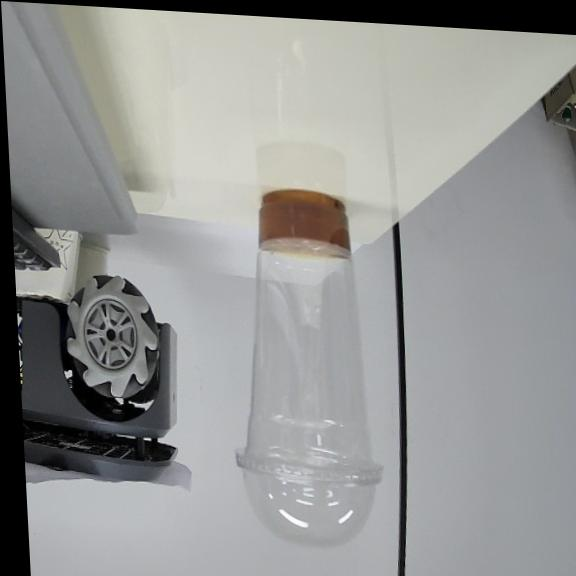Plastik: (236, 190, 381, 546)
